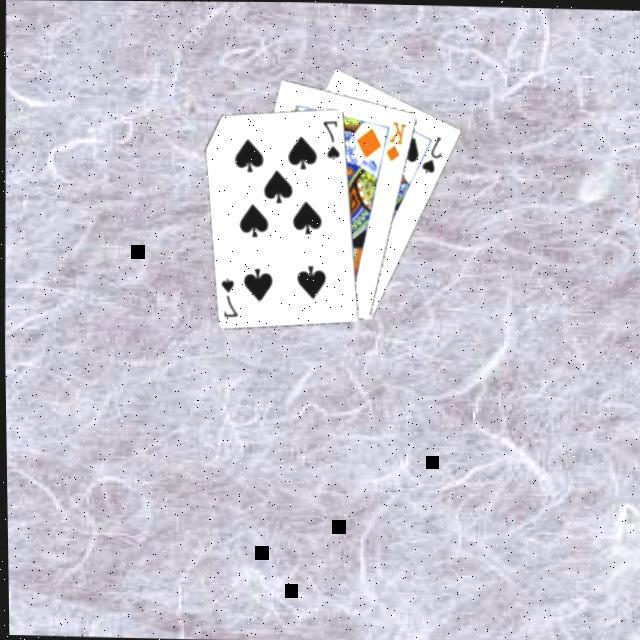7S: (317, 118, 341, 164), (216, 276, 240, 322)
JS: (416, 134, 446, 178)
KD: (381, 119, 408, 165)
